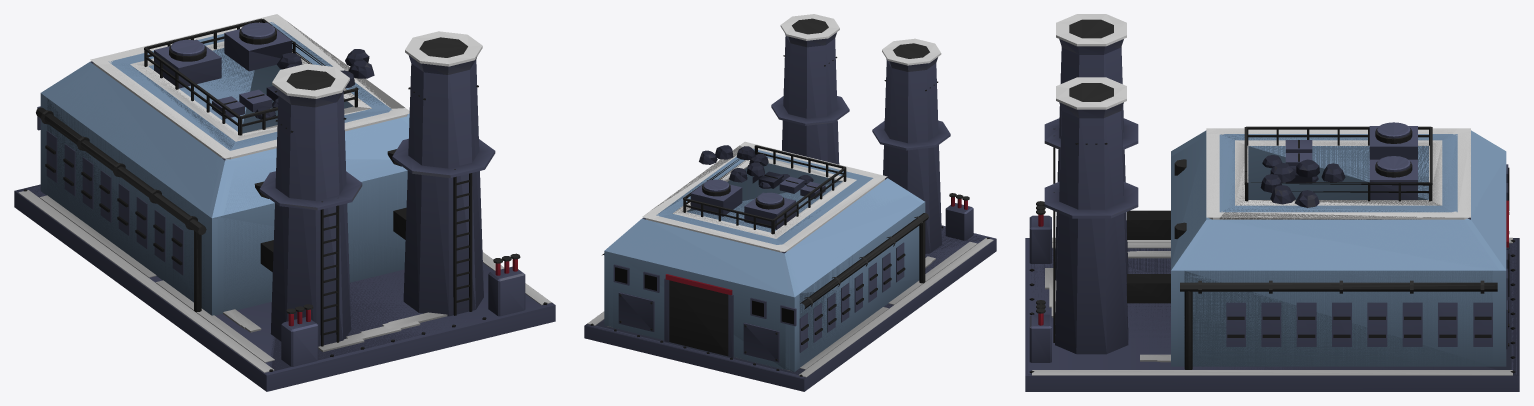
File: veyran_power_plant_damaged.glb
3 views of the same model, side by side, from view 1: azimuth 30°, elevation 25°; view 2: azimuth 150°, elevation 25°; view 3: azimuth 270°, elevation 25° (orthographic). The views are drawn at different scales.
Visible parts, largest first — view 1: body (×3); view 2: body (×3); view 3: body (×3).
Boxes of the visible parts, <box> form: body (×3): <box>14,14,555,391</box>; body (×3): <box>584,14,996,391</box>; body (×3): <box>1025,14,1519,391</box>.
Size of the model in its own units: 7.4 by 6.56 by 11.2.
